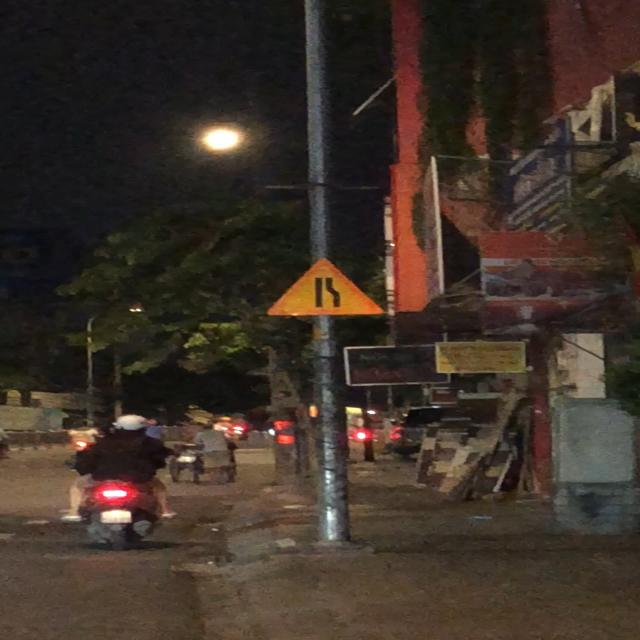Bien bao duong bi thu hep: (263, 255, 399, 314)
